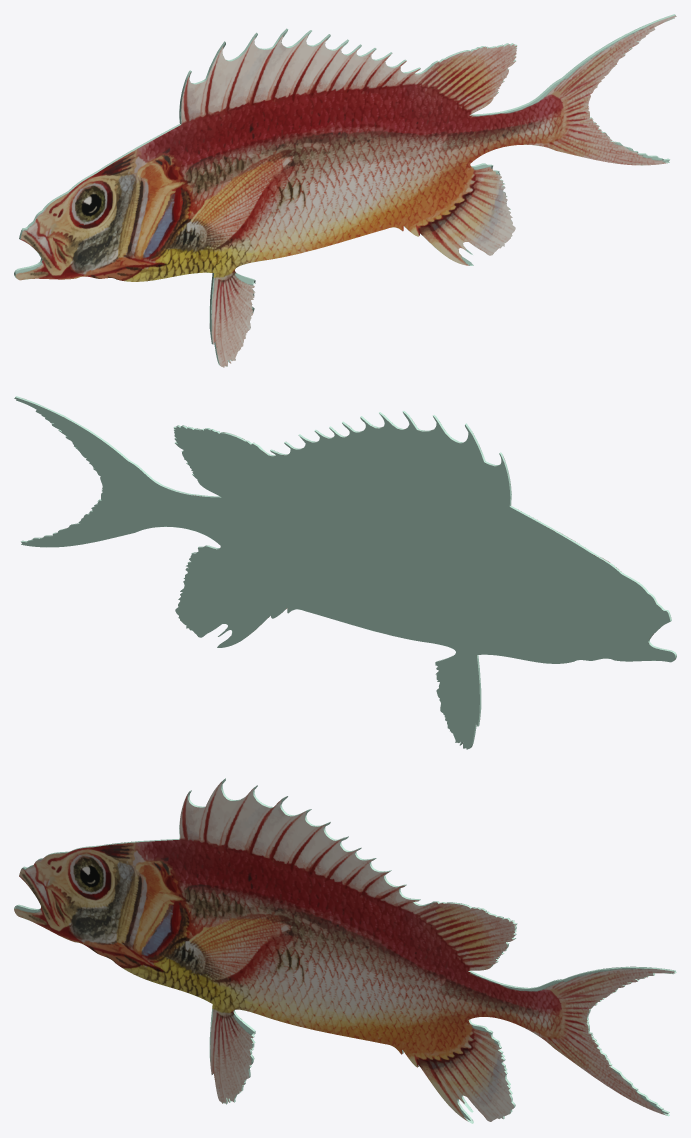
The model's file is pezfinal.glb.
3 views of the same model, one above another, from view 1: azimuth 30°, elevation 25°; view 2: azimuth 150°, elevation 25°; view 3: azimuth 330°, elevation 25° (orthographic).
Visible parts, largest first — view 1: Mesh_0_2, Mesh_0_1; view 2: Mesh_0_1; view 3: Mesh_0_2, Mesh_0_1.
Part boxes in pixels (x1,y1,x2,y2): Mesh_0_2: [15, 15, 676, 367]; Mesh_0_1: [14, 14, 676, 366]; Mesh_0_1: [14, 396, 676, 749]; Mesh_0_2: [14, 781, 674, 1121]; Mesh_0_1: [14, 778, 676, 1123].
Size of the model in its own units: 0.5485 by 0.2583 by 0.00215.
2 materials, 1 textured.
